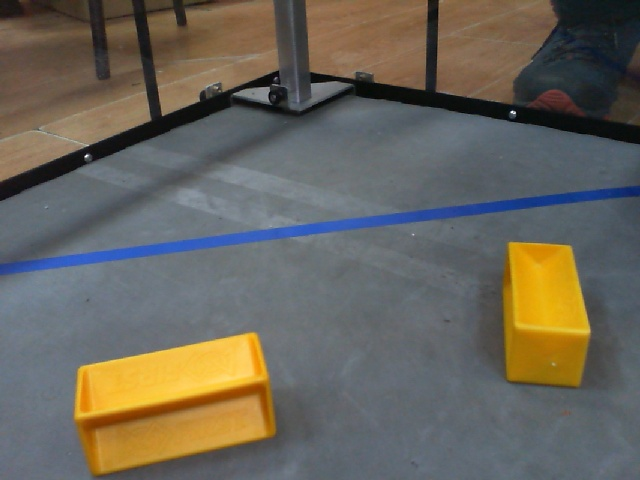YellowSample: (70, 328, 287, 478), (491, 237, 597, 392)
